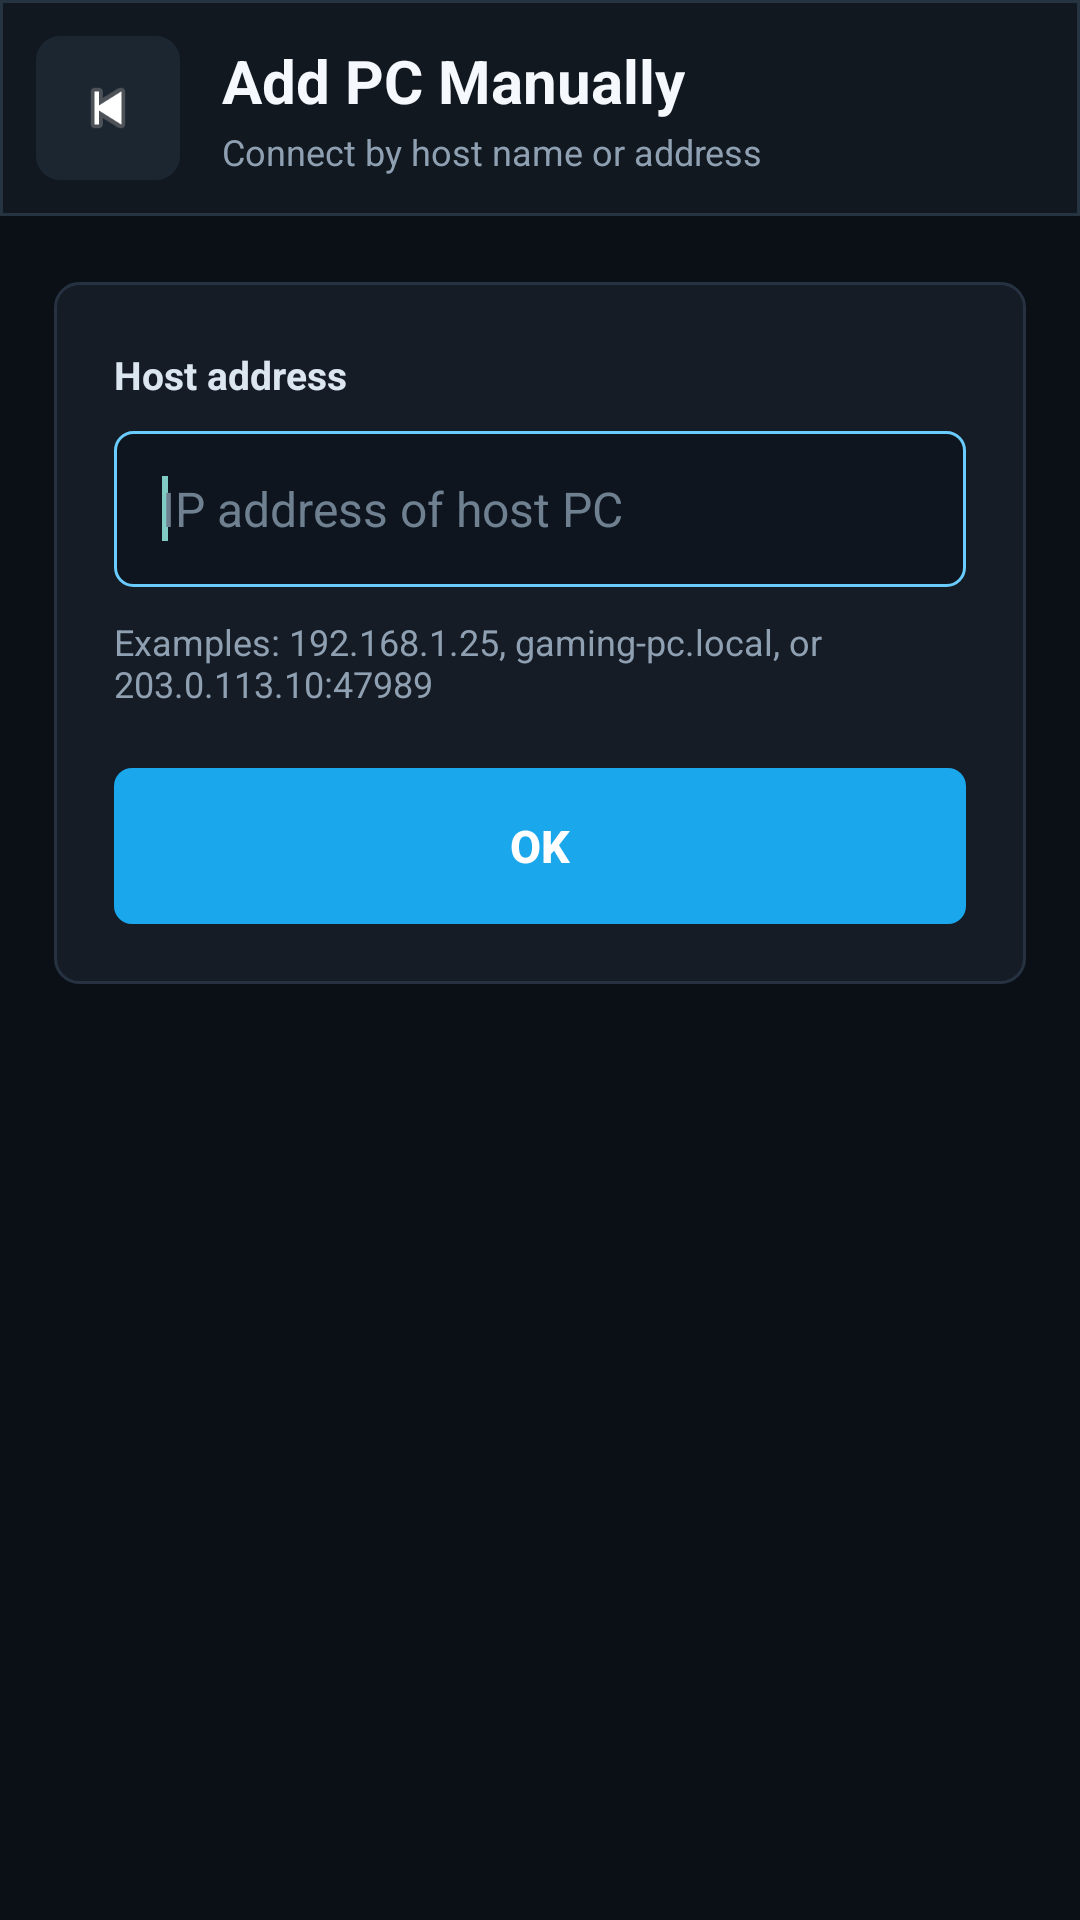

Icons on this 1080×1920 Android screen, each with its box as BBox(x1, y1, x2, y2):
previous: BBox(91, 88, 125, 128)
